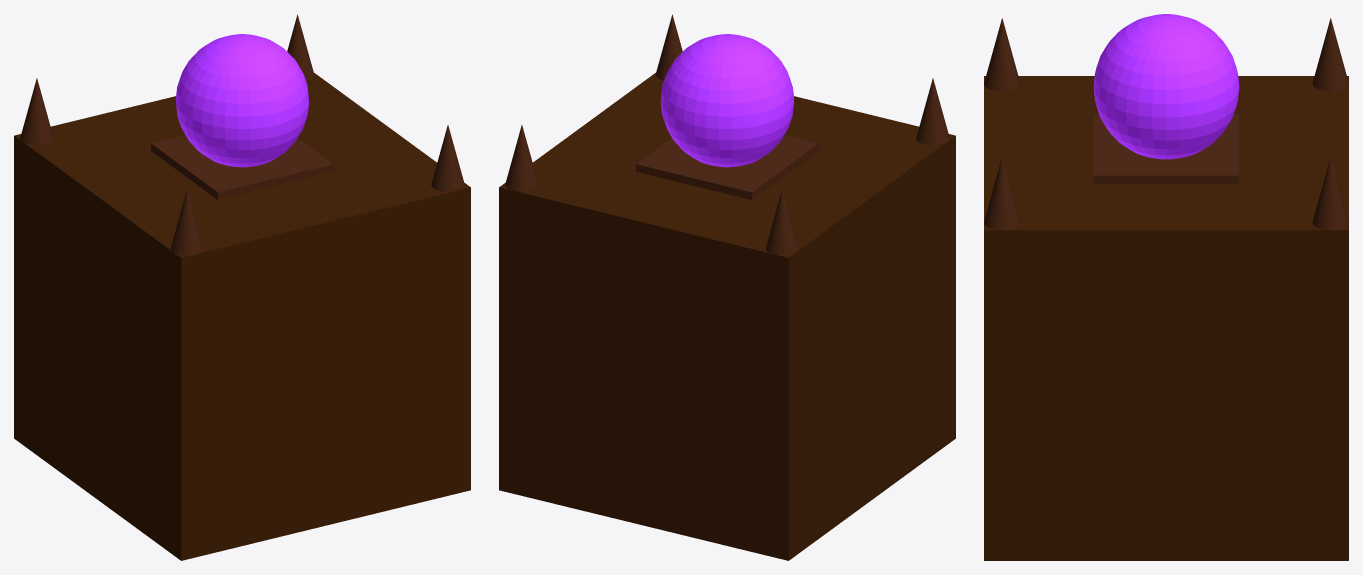
File: MagicTable.fbx
3 views of the same model, side by side, from view 1: azimuth 30°, elevation 25°; view 2: azimuth 150°, elevation 25°; view 3: azimuth 270°, elevation 25° (orthographic). The views are drawn at different scales.
Parts seen in each view (by area): view 1: TABLE, BALL, STAND, CORNER_FOUR, CORNER_ONE, CORNER_TWO, CORNER_THREE; view 2: TABLE, BALL, STAND, CORNER_THREE, CORNER_ONE, CORNER_TWO, CORNER_FOUR; view 3: TABLE, BALL, STAND, CORNER_ONE, CORNER_TWO, CORNER_THREE, CORNER_FOUR.
Boxes of the visible parts, x1,y1,x2,y2 form: TABLE: (14, 73, 470, 560); BALL: (175, 34, 309, 167); STAND: (151, 135, 333, 199); CORNER_FOUR: (431, 125, 464, 191); CORNER_ONE: (20, 78, 53, 145); CORNER_TWO: (170, 188, 203, 255); CORNER_THREE: (287, 14, 314, 80); TABLE: (499, 73, 955, 560); BALL: (660, 34, 794, 167); STAND: (636, 135, 818, 199); CORNER_THREE: (505, 125, 538, 191); CORNER_ONE: (766, 188, 799, 255); CORNER_TWO: (916, 78, 949, 145); CORNER_FOUR: (655, 14, 682, 80); TABLE: (984, 76, 1348, 560); BALL: (1093, 14, 1239, 159); STAND: (1093, 114, 1239, 183); CORNER_ONE: (1312, 18, 1348, 91); CORNER_TWO: (984, 18, 1020, 91); CORNER_THREE: (1312, 157, 1348, 230); CORNER_FOUR: (984, 157, 1020, 230).
Size of the model in its own units: 100 by 140 by 100.
